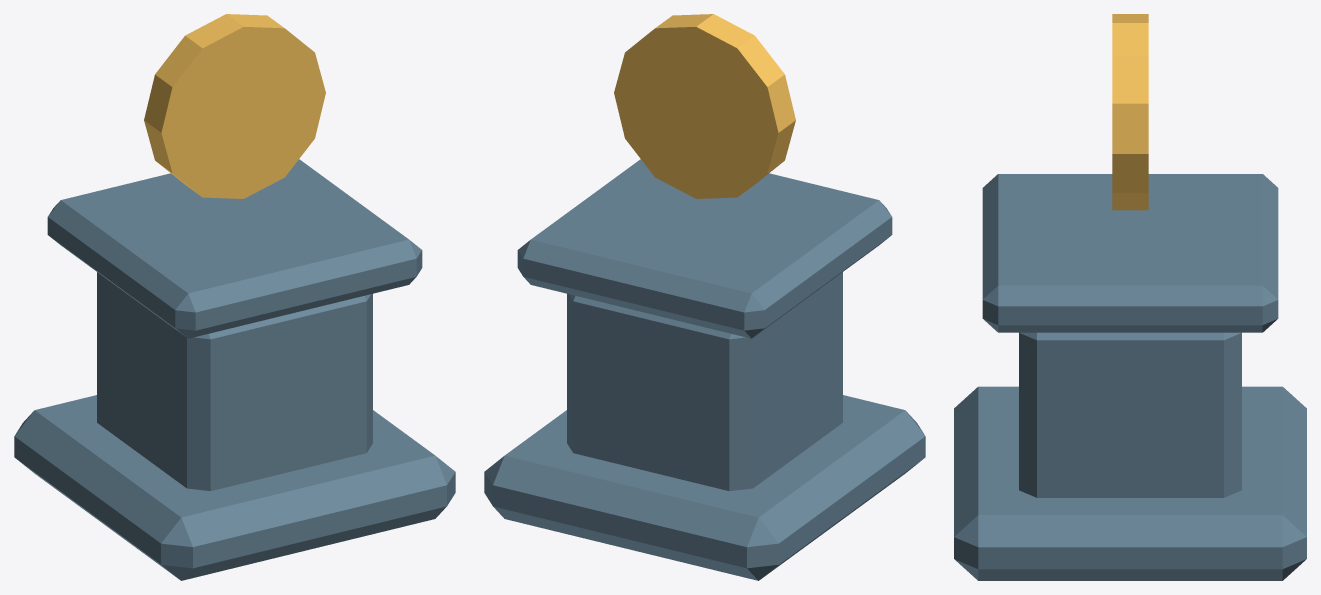
File: pilar_galeao.glb
3 views of the same model, side by side, from view 1: azimuth 30°, elevation 25°; view 2: azimuth 150°, elevation 25°; view 3: azimuth 270°, elevation 25° (orthographic). The views are drawn at different scales.
Parts seen in each view (by area): view 1: neve_pilar_galeao; view 2: neve_pilar_galeao; view 3: neve_pilar_galeao.
Part boxes in pixels (x1,y1,x2,y2): neve_pilar_galeao: (14,14,455,580); neve_pilar_galeao: (484,14,925,580); neve_pilar_galeao: (954,14,1306,580).
Bounding box in the file's own units: 0.68 × 1.05 × 0.68.
